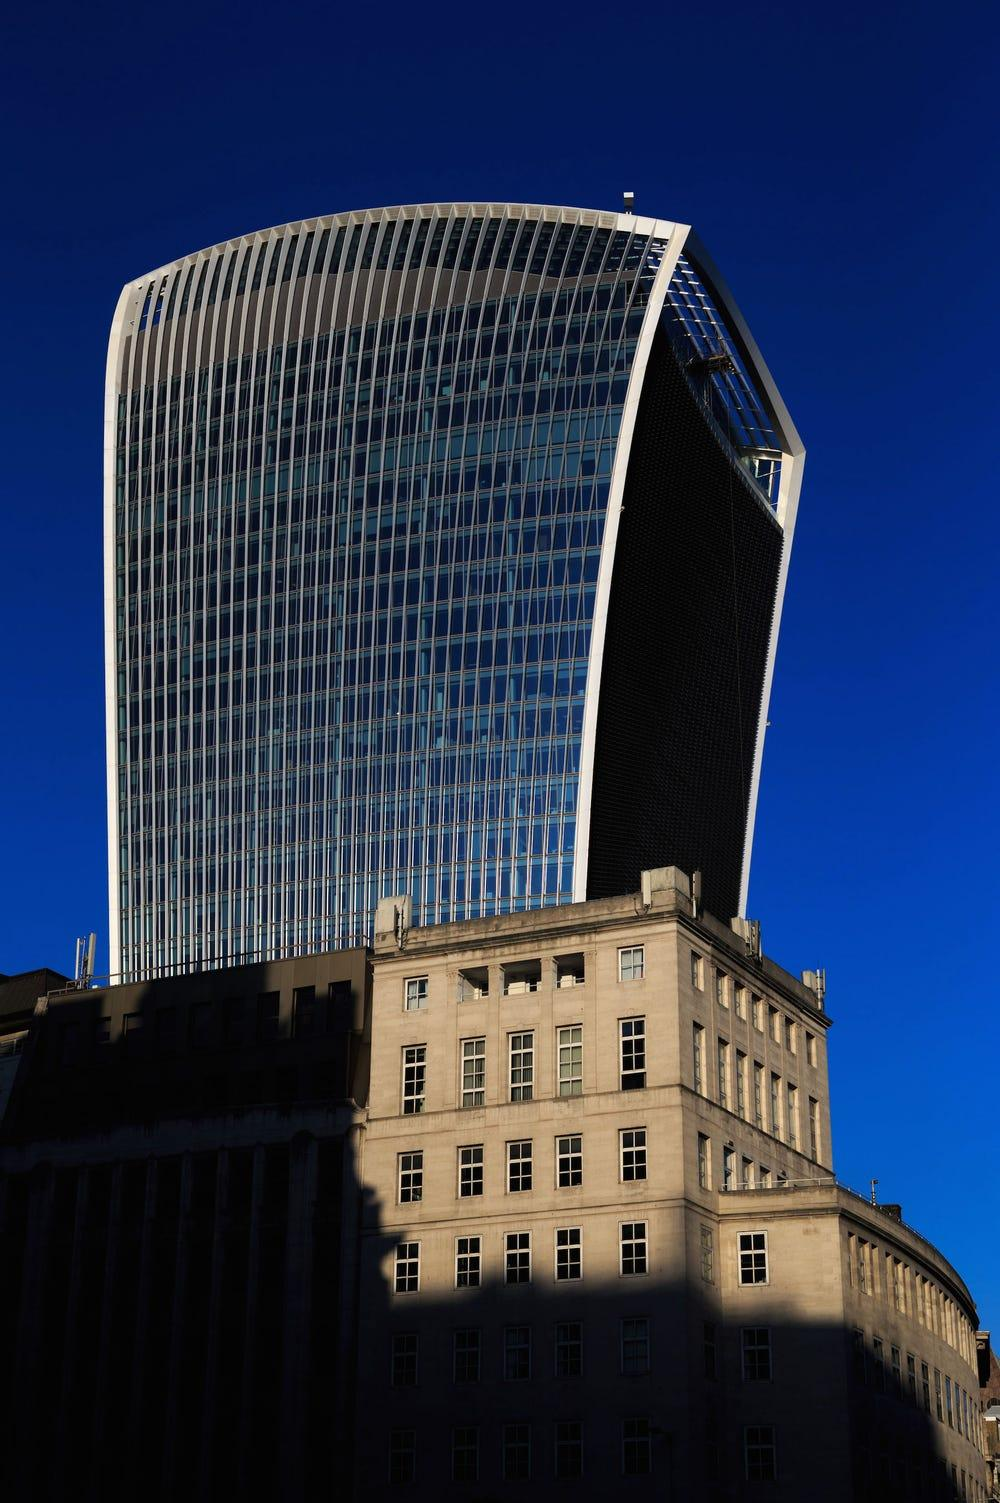Walkie talkie: (88, 197, 825, 979)
